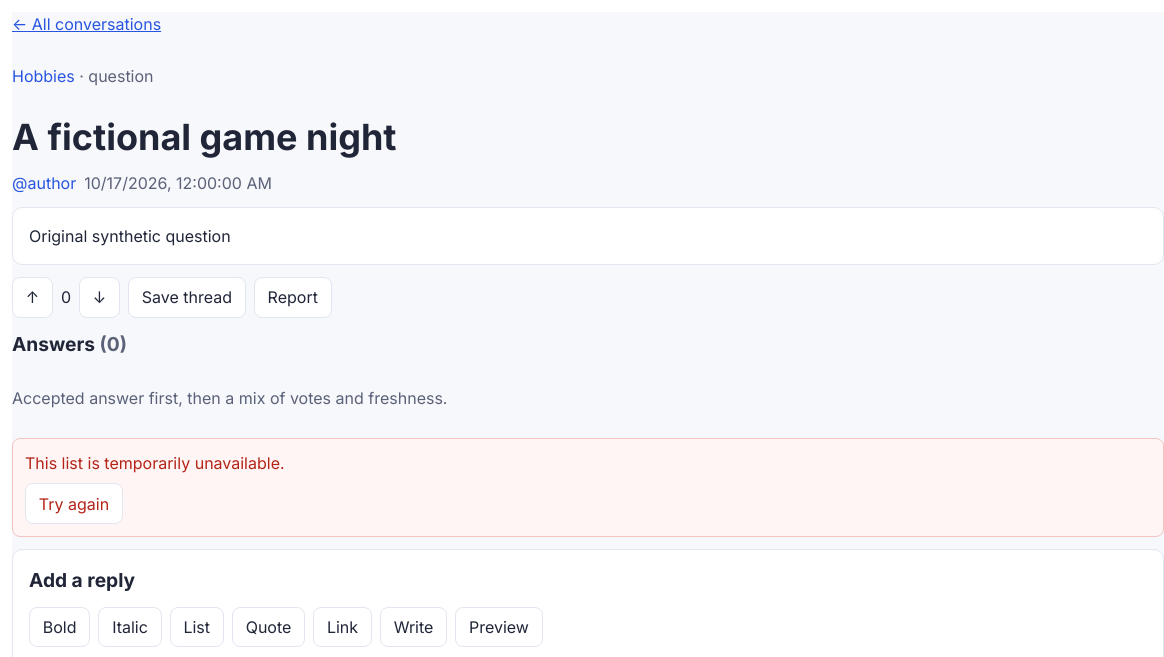
recovers replies reads without falsely claiming the list is empty
The image size is (1164, 657).
Expected: the message shows "This list is temporarily unavailable.", 25,453 -> 285,473
Expected: the text "No replies yet. Start the conversation." is not shown
Click the button "Try again" at (74, 504), box 25,483 -> 123,524
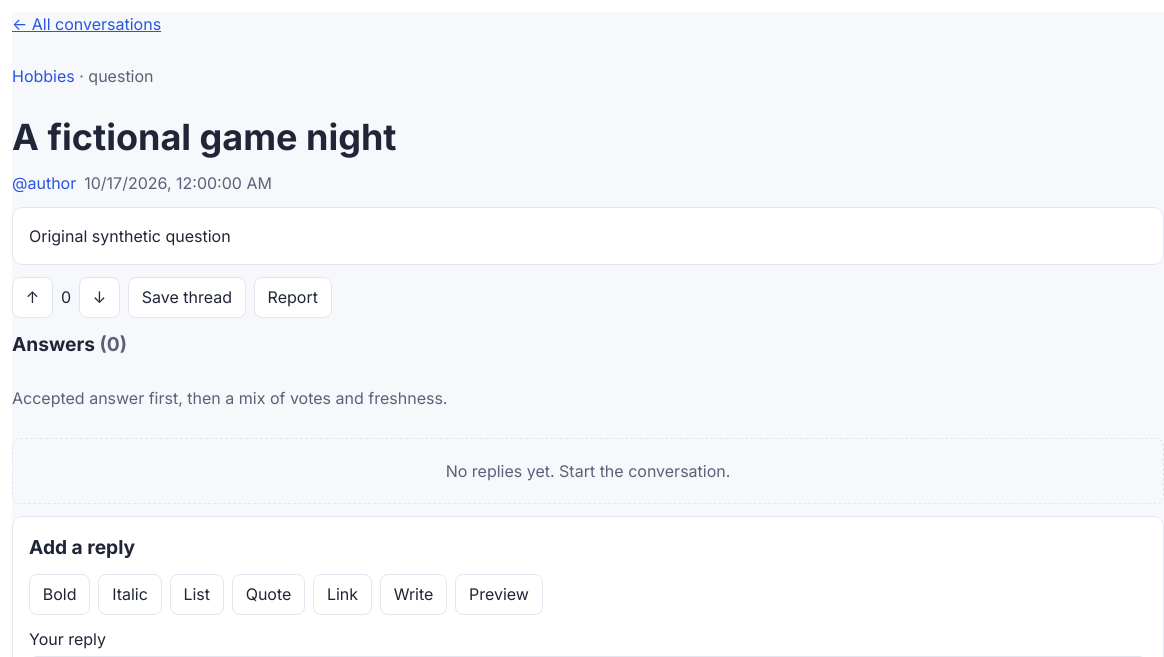
Expected: the text "No replies yet. Start the conversation." is shown, 12,438 -> 1163,504
Expected: the message "This list is temporarily unavailable. Try again" is gone
